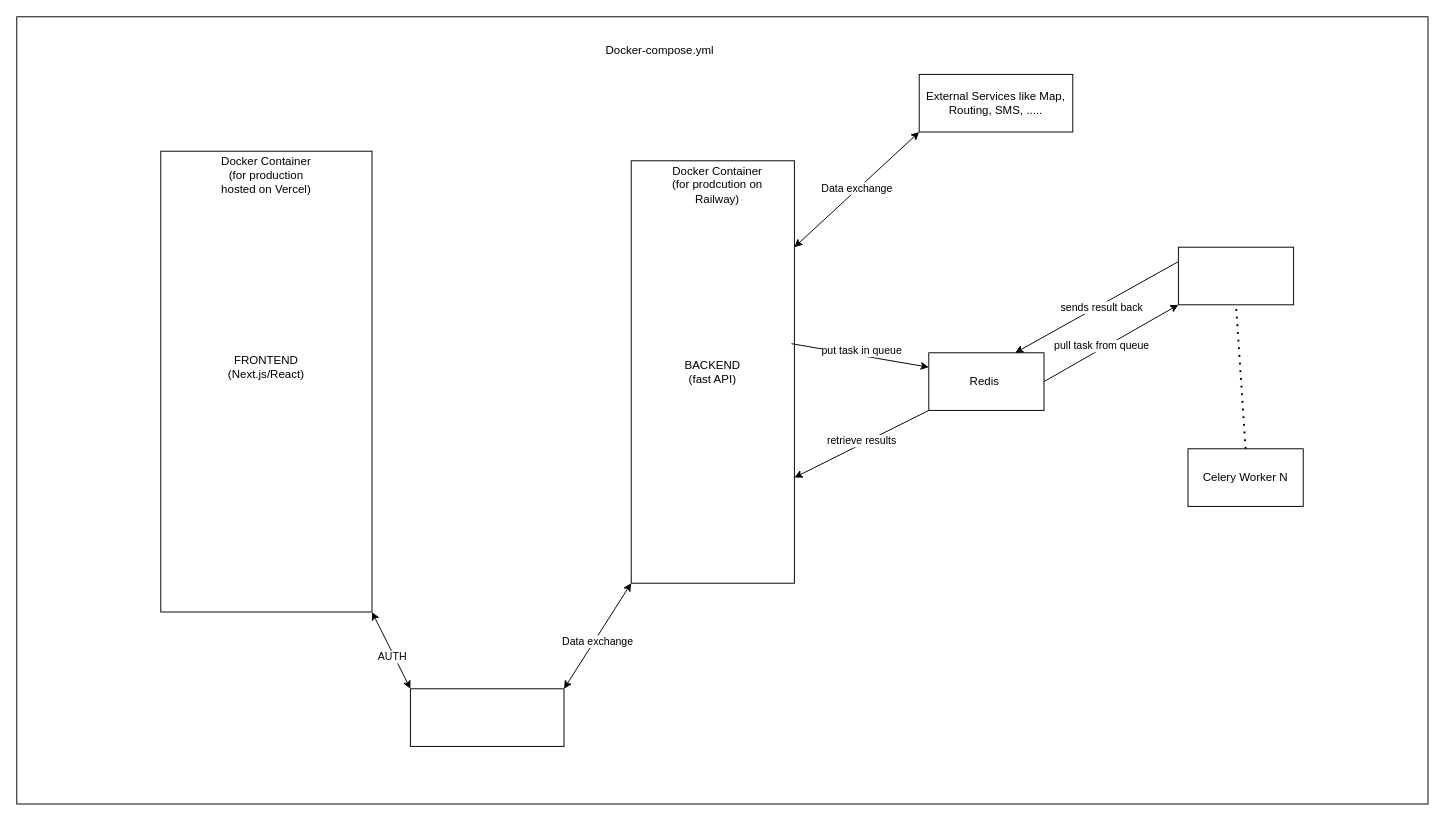
Some shapes in this 1445 by 821 pixel diagram are drawn without their labels. Each missing label, with the centre of its shape:
Celery Worker 1: point (1235, 275)
SUPABASE: point (486, 717)
